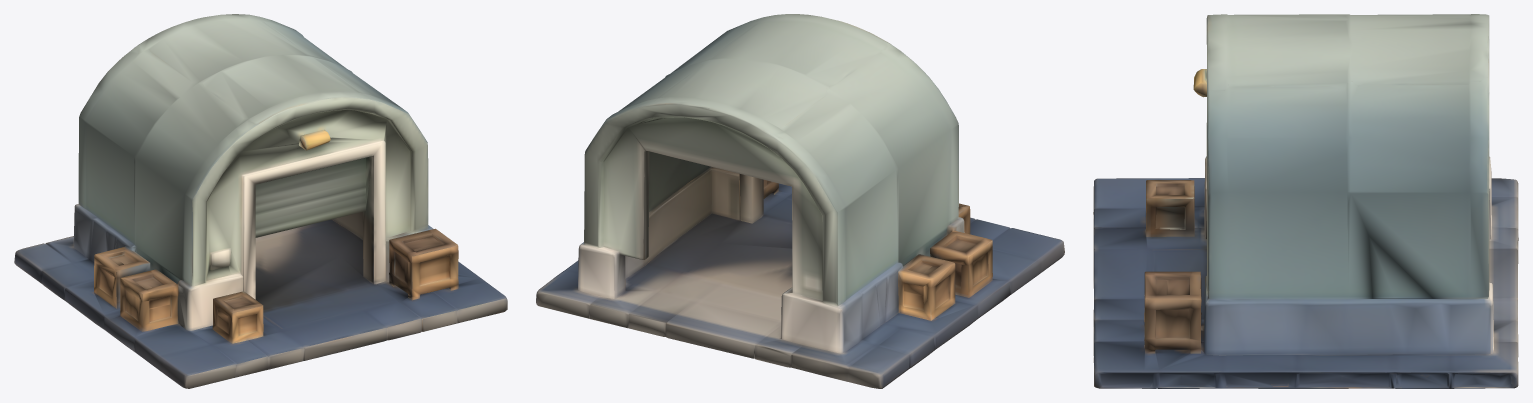
Rendered from tayinlama.glb.
The picture shows the model from 3 angles, left to right: view 1: azimuth 30°, elevation 25°; view 2: azimuth 150°, elevation 25°; view 3: azimuth 270°, elevation 25°; orthographic projection. The views are drawn at different scales.
Parts seen in each view (by area): view 1: node_0; view 2: node_0; view 3: node_0.
Part boxes in pixels (left/top/right/bottom): node_0: left=14, top=14, right=507, bottom=388; node_0: left=536, top=14, right=1064, bottom=388; node_0: left=1093, top=14, right=1518, bottom=388.
Bounding box in the file's own units: 0.8057 × 0.5094 × 0.7441.
Materials: 1 (1 with a texture image).
